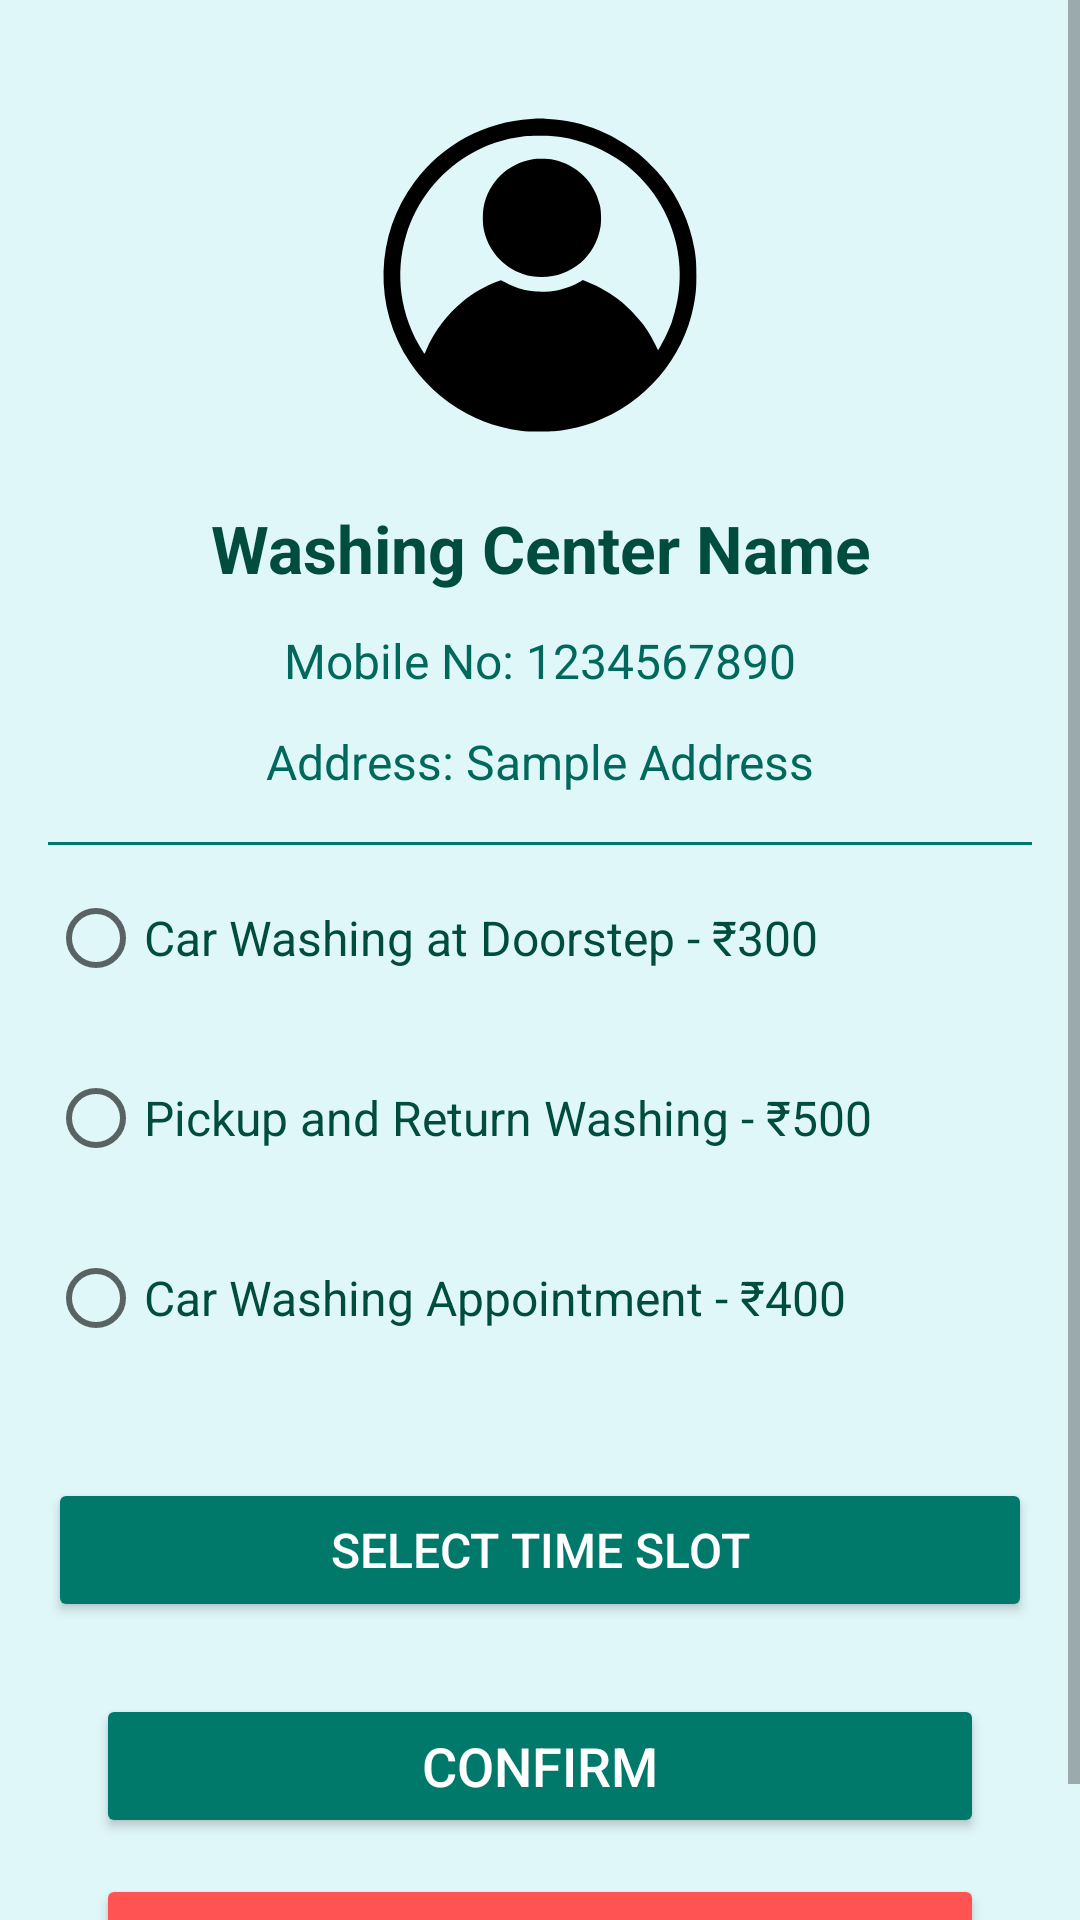

Where to tap for icons on this 1080 × 1920 app screen, as (x=x, y=y):
Profile Image: (x=540, y=275)
